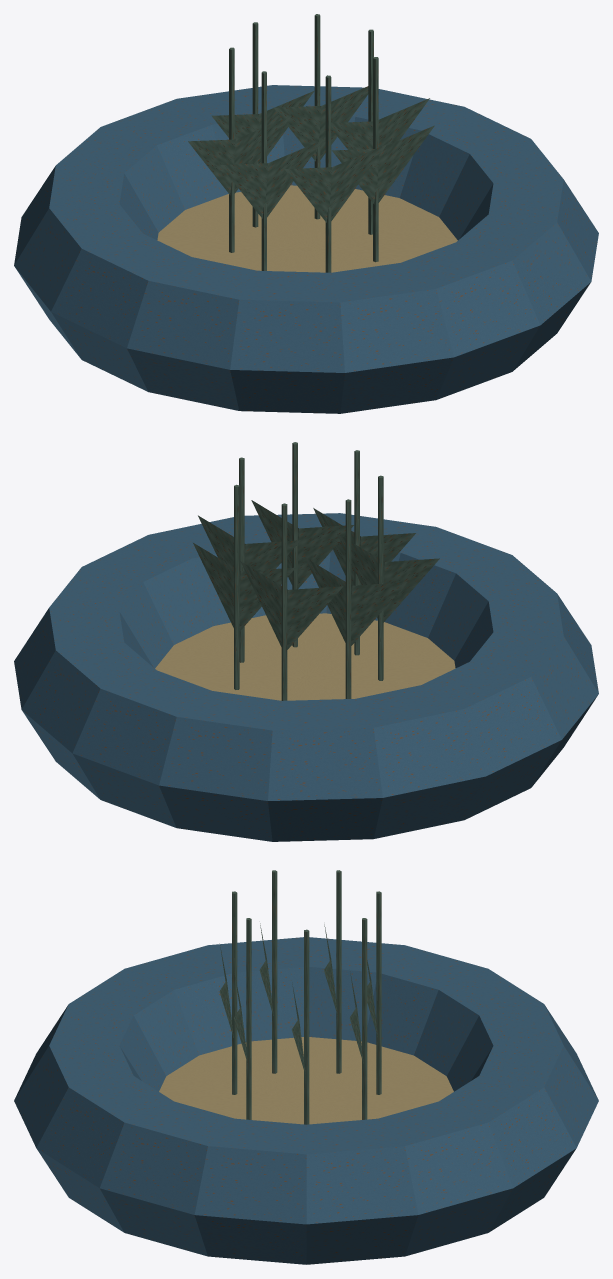
The model's file is CIS_TirePlanter.glb.
3 renders of one model, top to bottom at view 1: azimuth 30°, elevation 25°; view 2: azimuth 150°, elevation 25°; view 3: azimuth 270°, elevation 25°, orthographic.
Visible parts, largest first — view 1: CIS_TirePlanter; view 2: CIS_TirePlanter; view 3: CIS_TirePlanter.
Boxes of the visible parts, box(x1,y1,x2,y2) form: CIS_TirePlanter: box(14, 14, 598, 413); CIS_TirePlanter: box(14, 442, 598, 841); CIS_TirePlanter: box(14, 870, 598, 1264).
Size of the model in its own units: 0.79 by 0.4 by 0.79.
3 materials, 3 textured.
